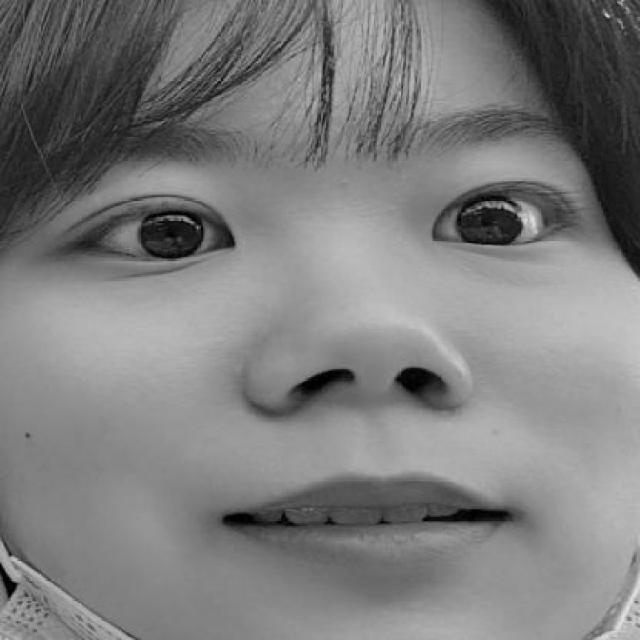happy: (38, 135, 611, 607)
